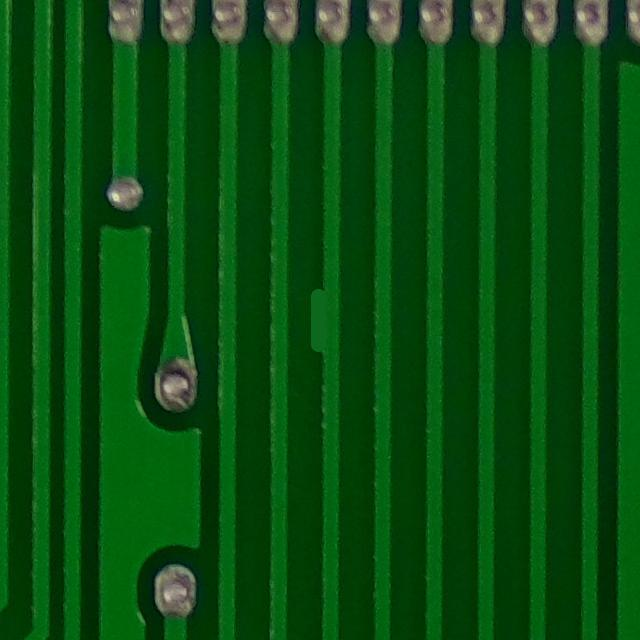spur: (290, 278, 350, 363)
